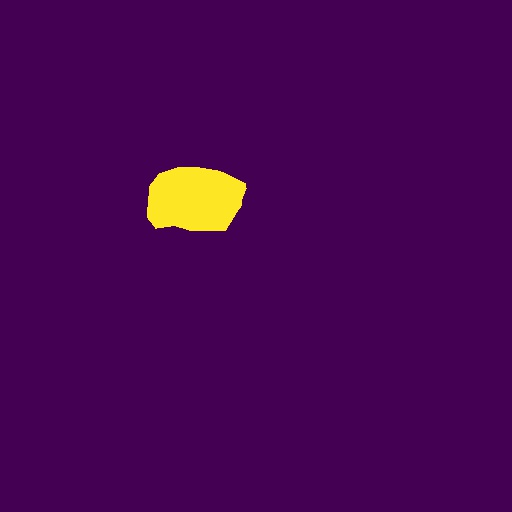Gliomia_tumour: (147, 167, 247, 231)
